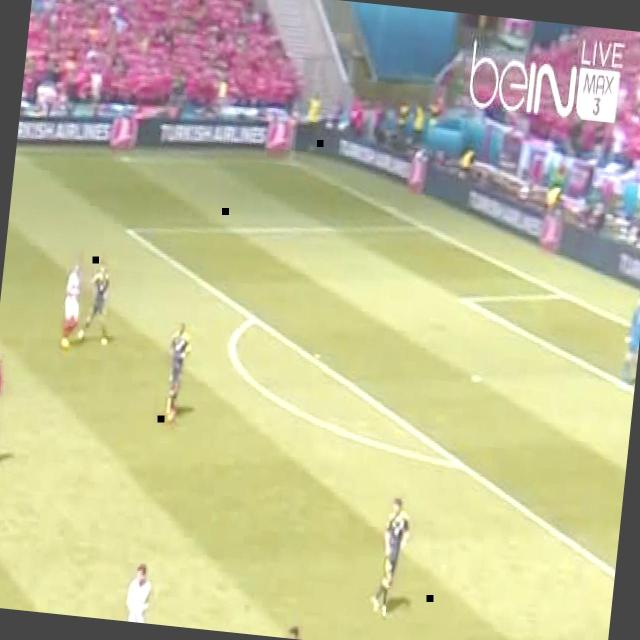player-white: (370, 495, 412, 624), (161, 321, 193, 427), (78, 261, 116, 347), (118, 560, 154, 624), (59, 263, 85, 351), (618, 293, 640, 391), (0, 356, 7, 462), (277, 624, 321, 640)
